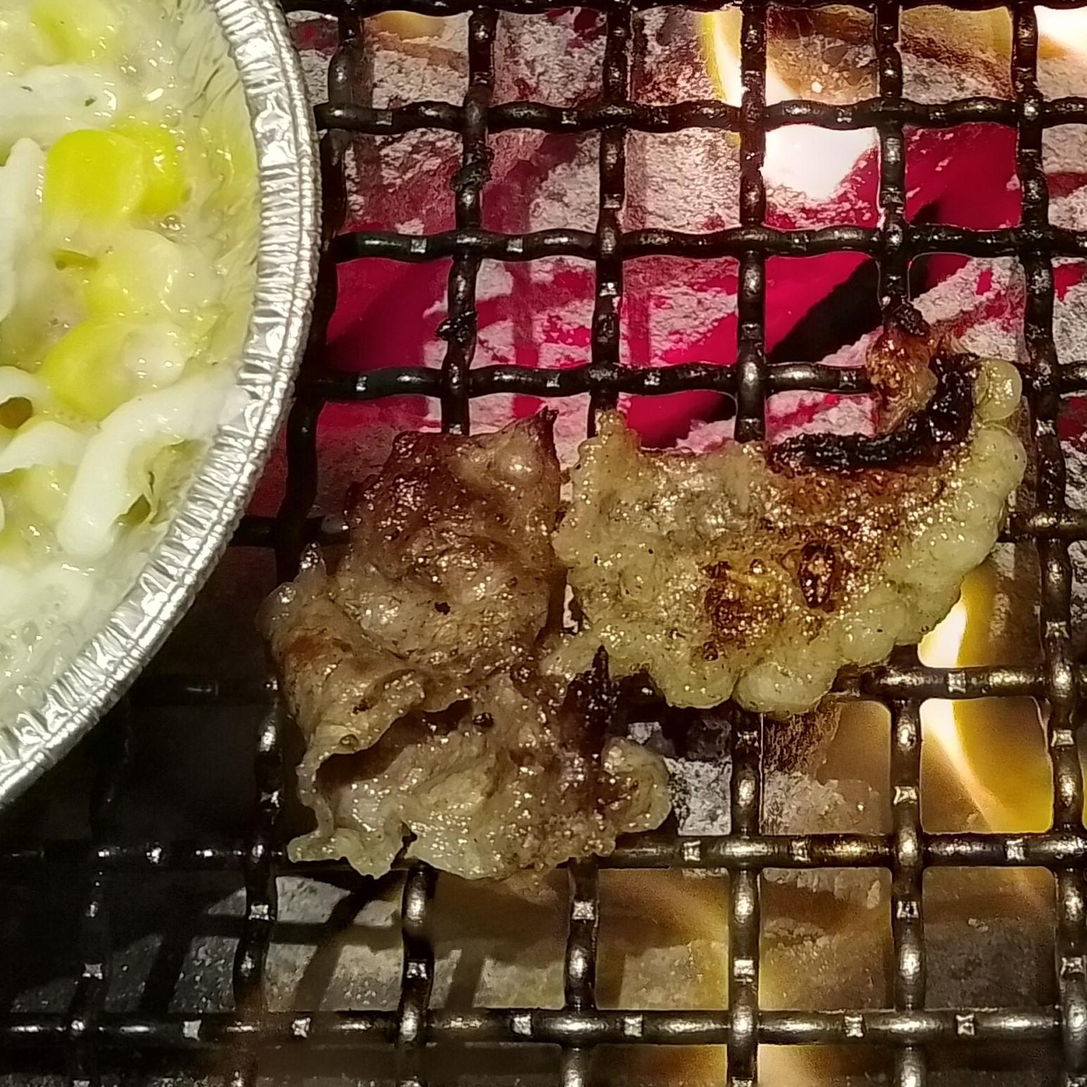Overcooked: (262, 413, 672, 881), (553, 356, 1025, 718)
